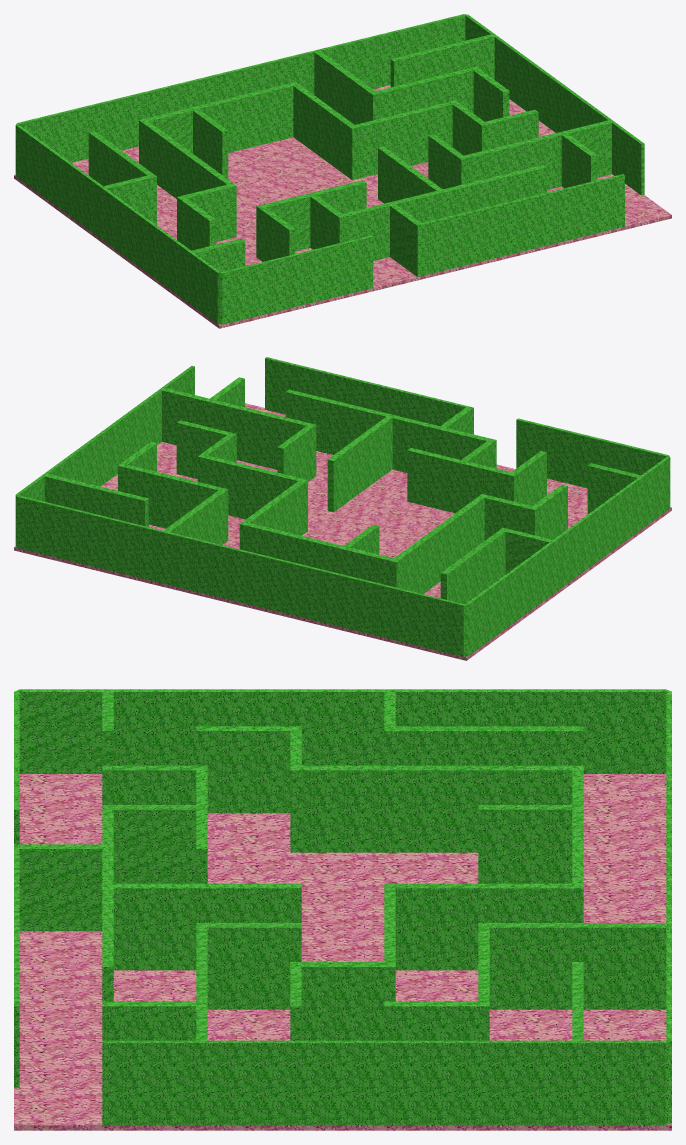
The picture shows the model from 3 angles, top to bottom: view 1: azimuth 30°, elevation 25°; view 2: azimuth 150°, elevation 25°; view 3: azimuth 270°, elevation 25°; orthographic projection. The views are drawn at different scales.
Visible parts, largest first — view 1: labirint, labirint 2; view 2: labirint, labirint 2; view 3: labirint, labirint 2.
Part boxes in pixels (left/top/right/bottom): labirint: left=15, top=14, right=644, bottom=324; labirint 2: left=14, top=85, right=671, bottom=328; labirint: left=15, top=357, right=670, bottom=656; labirint 2: left=14, top=403, right=671, bottom=660; labirint: left=14, top=689, right=671, bottom=1125; labirint 2: left=14, top=774, right=671, bottom=1130.
Size of what is drawn, in the model's own units: 20.36 by 2.35 by 16.01.
2 materials, 2 textured.
